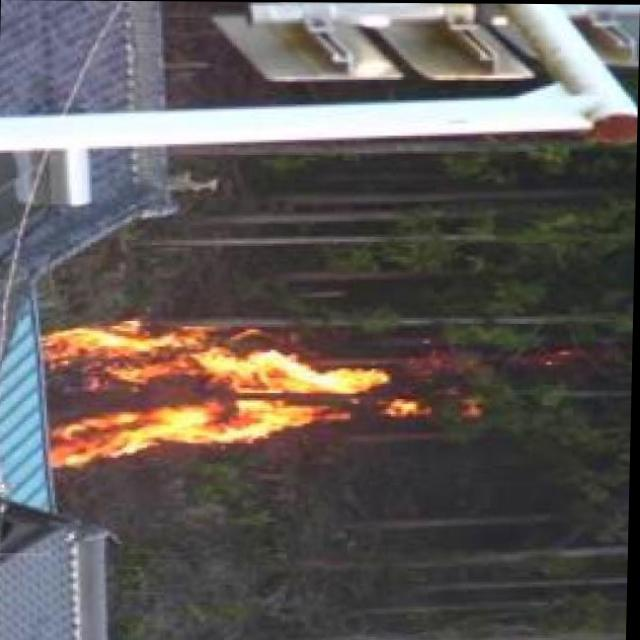Fire: (52, 311, 431, 478)
